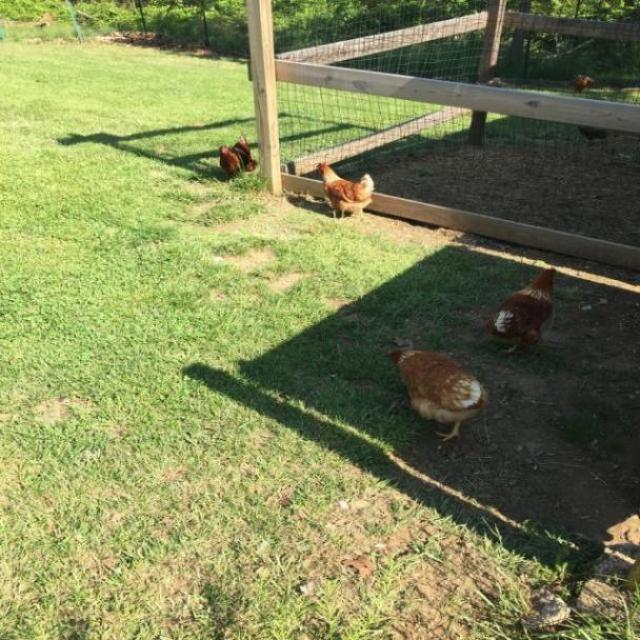Chicken: (396, 340, 500, 445), (481, 265, 556, 360), (311, 157, 381, 217), (206, 134, 255, 185), (574, 128, 613, 155), (566, 71, 592, 97)
